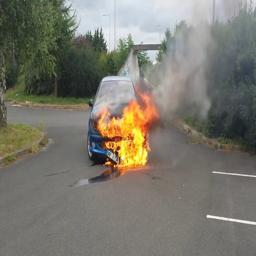fire: (97, 81, 160, 168)
